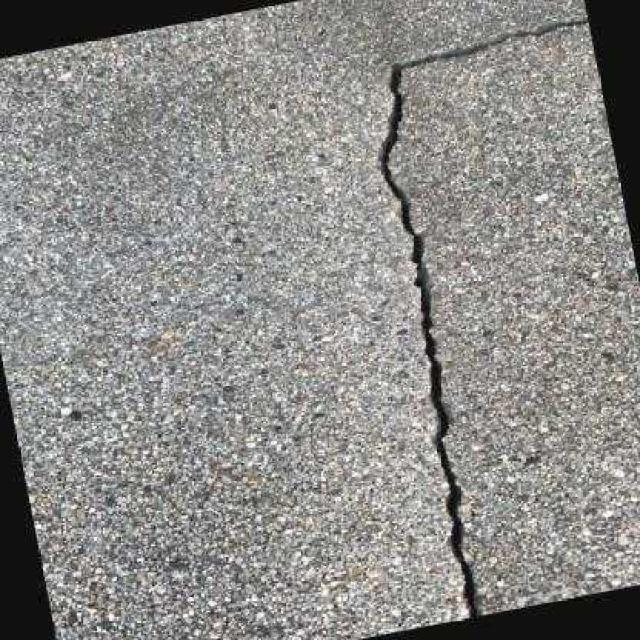D00: (372, 15, 588, 618)
